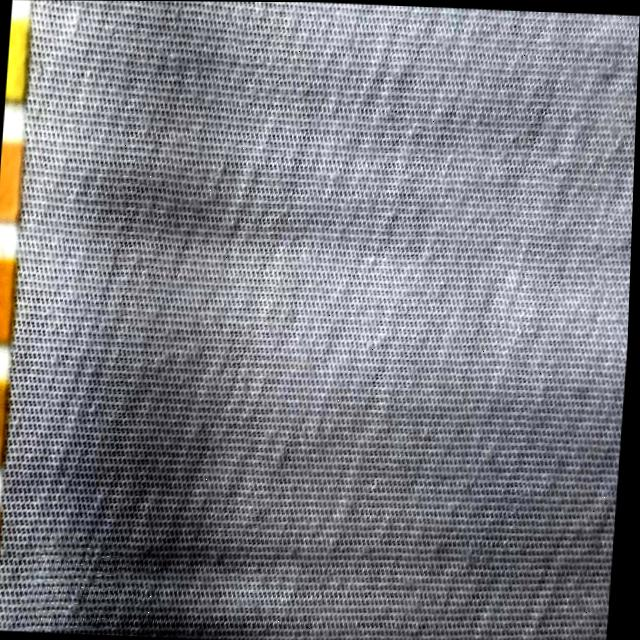Blood: (0, 263, 14, 346)
Ketone: (0, 514, 3, 597)
Protein: (5, 20, 29, 103)
SpGravity: (0, 384, 8, 467)
pH: (0, 142, 23, 225)
